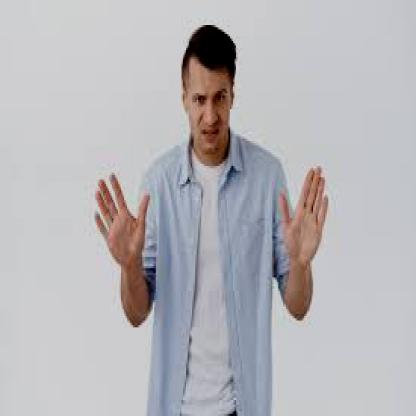Stop: (87, 165, 152, 272), (280, 157, 324, 270)
